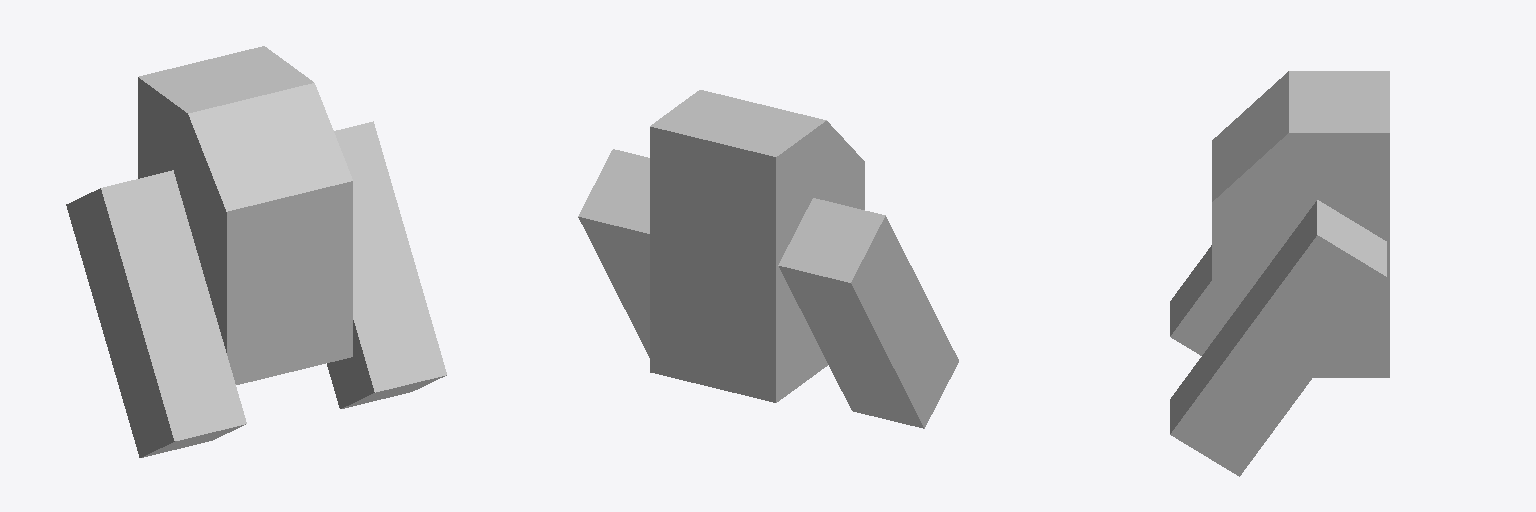
The model's file is frame-corner.obj.
3 renders of one model, left to right at view 1: azimuth 30°, elevation 25°; view 2: azimuth 150°, elevation 25°; view 3: azimuth 270°, elevation 25°, orthographic.
Parts seen in each view (by area): view 1: Cube.008, Cube.006; view 2: Cube.008, Cube.006; view 3: Cube.008, Cube.006.
Part boxes in pixels (x1,y1,x2,y2): Cube.008: (138, 46, 352, 384); Cube.006: (66, 121, 446, 457); Cube.008: (650, 90, 864, 402); Cube.006: (578, 149, 958, 428); Cube.008: (1212, 71, 1389, 377); Cube.006: (1170, 200, 1386, 476).
Size of the model in its own units: 0.7325 by 0.7923 by 0.5115.